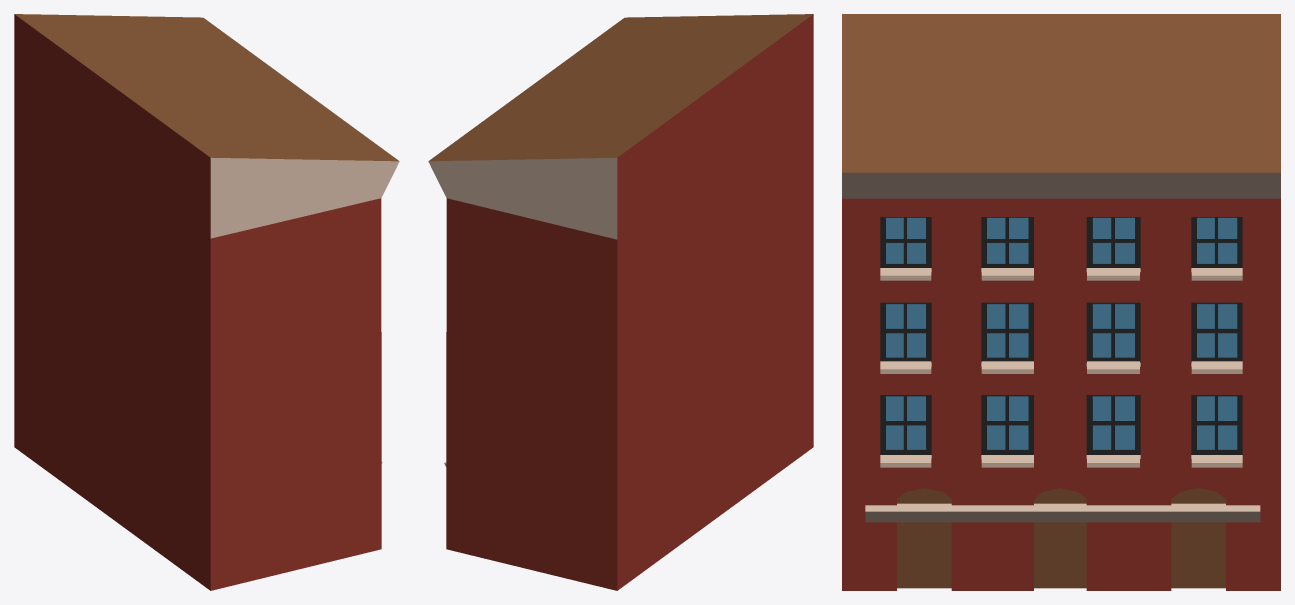
Rendered from BigRed.obj.
3 views of the same model, side by side, from view 1: azimuth 30°, elevation 25°; view 2: azimuth 150°, elevation 25°; view 3: azimuth 270°, elevation 25° (orthographic). The views are drawn at different scales.
Parts seen in each view (by area): view 1: DuzyZwyklyCzerwony; view 2: DuzyZwyklyCzerwony; view 3: DuzyZwyklyCzerwony.
Boxes of the visible parts, x1,y1,x2,y2 form: DuzyZwyklyCzerwony: (14, 14, 399, 590); DuzyZwyklyCzerwony: (428, 14, 813, 590); DuzyZwyklyCzerwony: (842, 14, 1280, 590).
Size of the model in its own units: 6.09 by 13.33 by 10.96.
